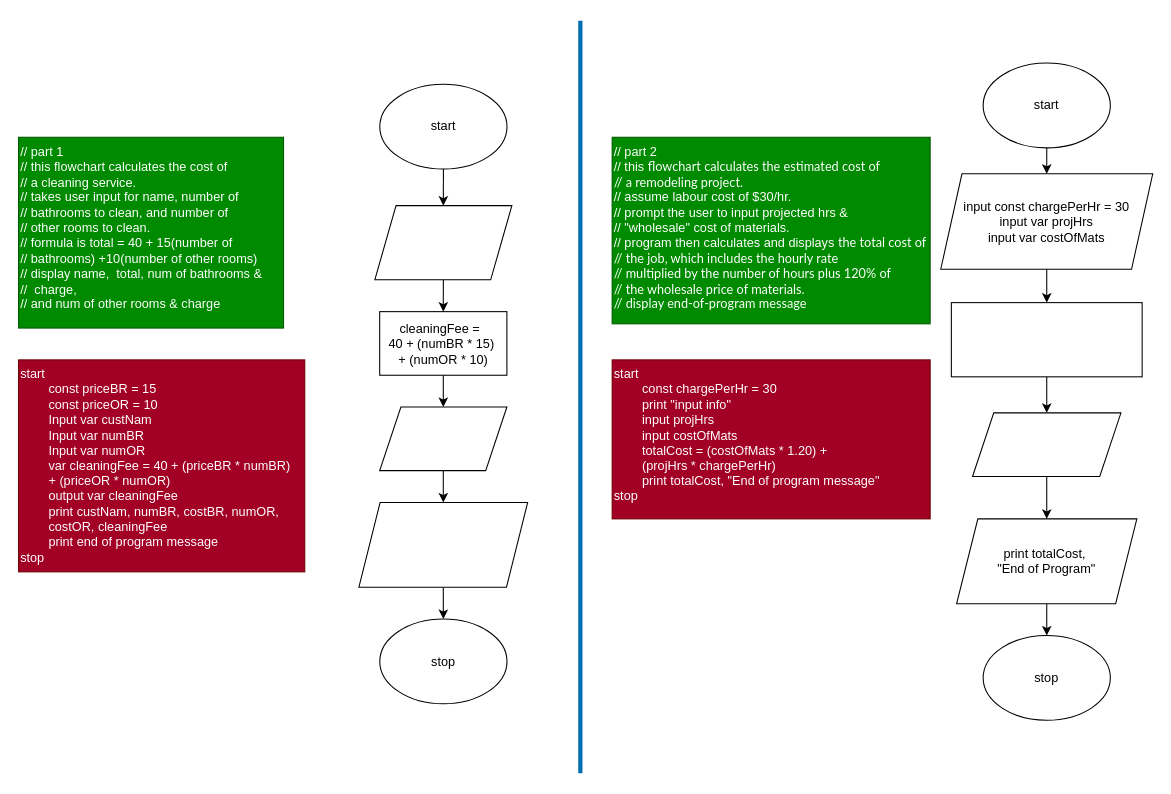
Image size: 1171x794. Some labels were removed from this diagram. Each missing label, with the box of its shape:
input var numBR input var numOR: (374, 205, 512, 280)
output var cleaningFee: (379, 406, 507, 471)
output var totalCost: (971, 412, 1121, 476)
print custNam, numBR, costBR, numOR, costOR, cleaningFee, "End of program": (358, 501, 528, 587)
totalCost = ( costOfMats * 1.20) + ( projHrs * chargePerHr ): (950, 302, 1142, 377)
